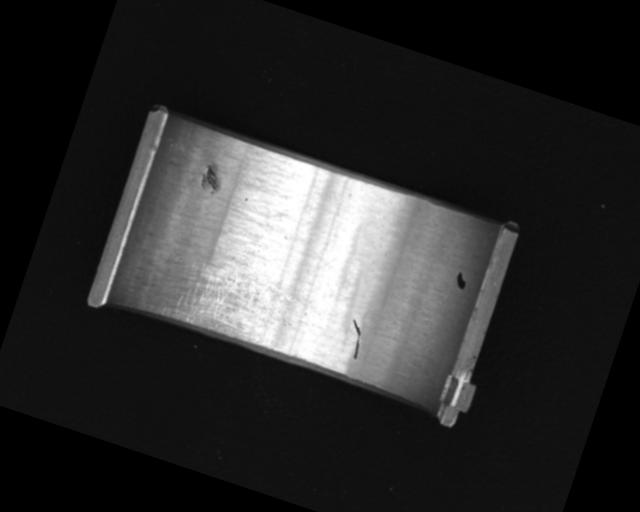blot: (452, 270, 470, 292)
bruise: (196, 161, 227, 198)
nick: (341, 319, 369, 361)
scratch: (160, 245, 311, 356)
